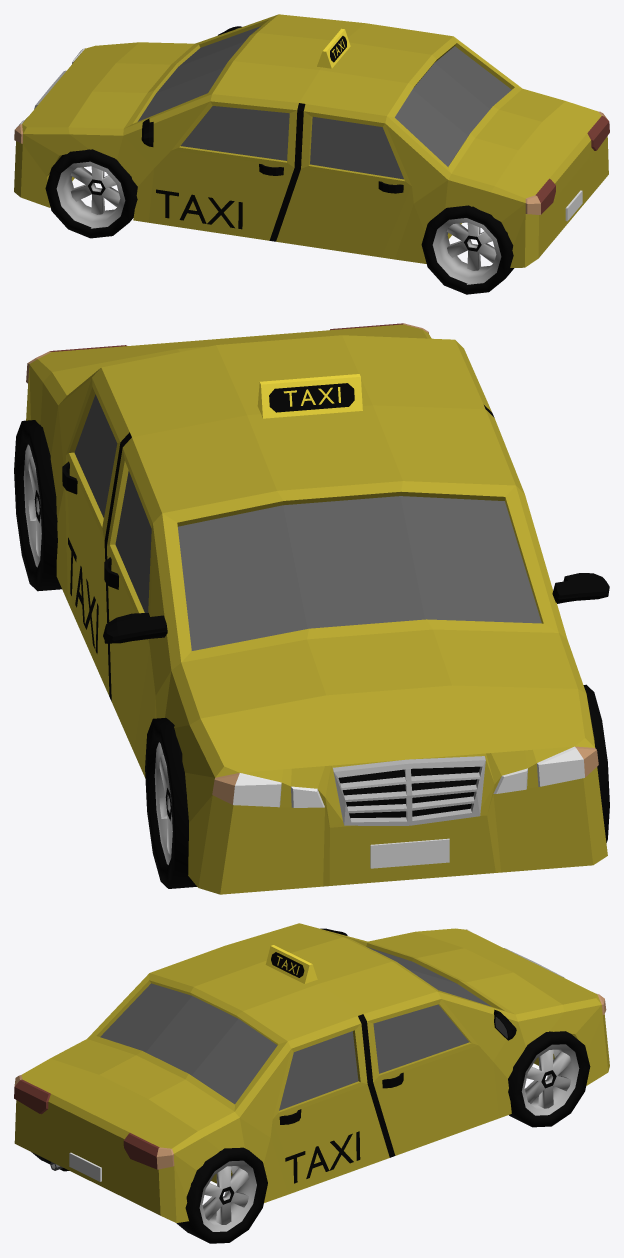
Rendered from Taxi.fbx.
The picture shows the model from 3 angles, top to bottom: view 1: azimuth 30°, elevation 25°; view 2: azimuth 150°, elevation 25°; view 3: azimuth 270°, elevation 25°; orthographic projection. The views are drawn at different scales.
Visible parts, largest first — view 1: Taxi; view 2: Taxi; view 3: Taxi.
Boxes of the visible parts, bbox=[...] form: Taxi: bbox=[14, 14, 609, 294]; Taxi: bbox=[14, 323, 609, 894]; Taxi: bbox=[14, 923, 609, 1243].
Bounding box in the file's own units: 515 × 551 × 196.
